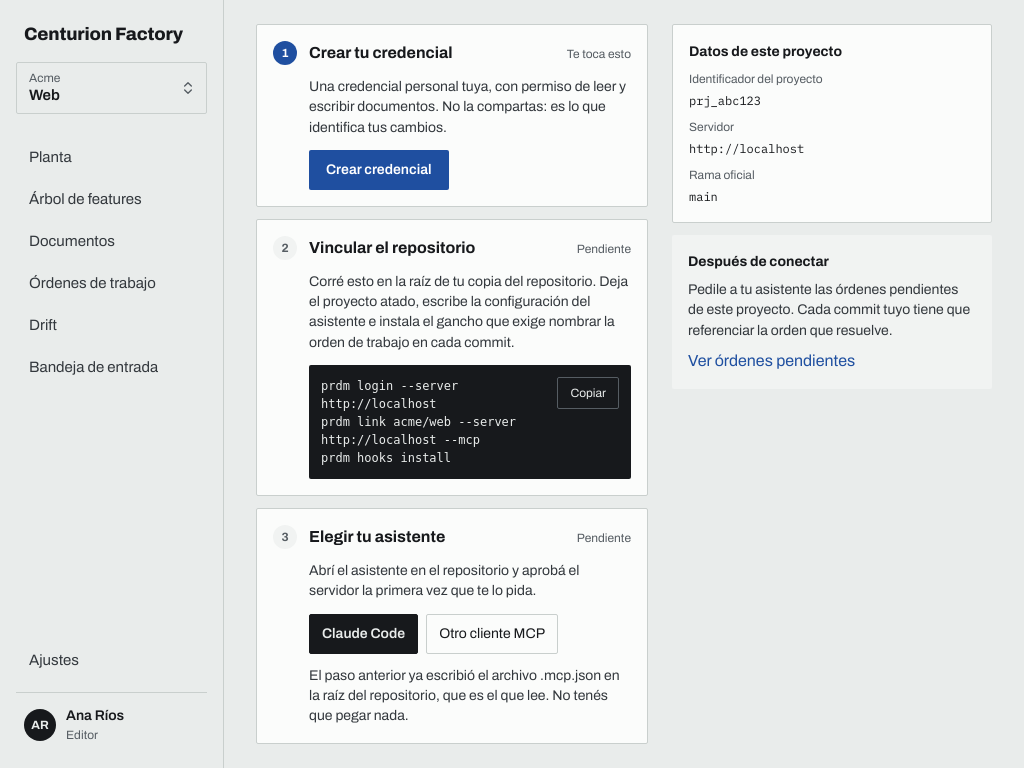
Test: ConstruirDeveloper — the assistant (WO-572, SDD-055) › for any other client it shows the entry to paste, with no secret in it
The image size is (1024, 768).
(page scrolled)
Click the radio button labelled "Otro cliente MCP": (492, 634) [426,614,558,654]
(page scrolled)
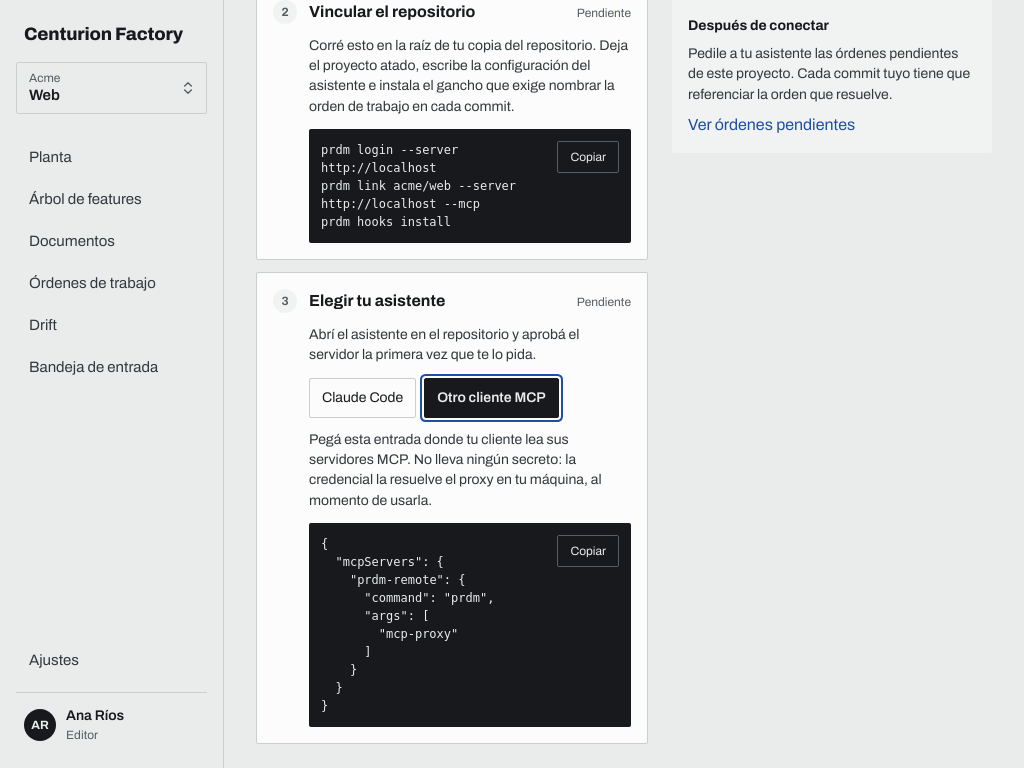
Now the element named "Entrada para tu cliente MCP" shows "\"prdm-remote\"", box [321,537,494,713]
Now the element named "Entrada para tu cliente MCP" shows "mcp-proxy", box [321,537,494,713]
